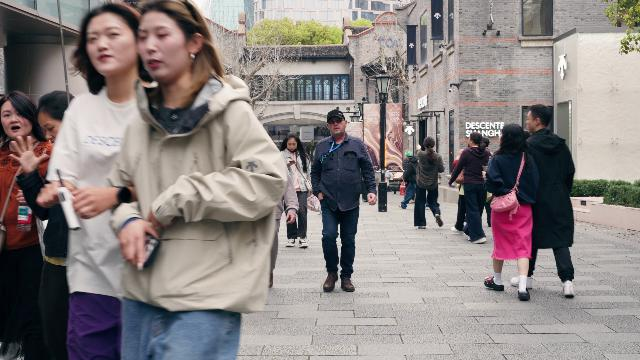person: (102, 0, 289, 360), (36, 3, 151, 360), (5, 89, 76, 360), (0, 91, 54, 360), (511, 104, 576, 298), (310, 110, 378, 292), (482, 124, 540, 301), (447, 132, 491, 244), (280, 132, 314, 248), (414, 137, 445, 229), (450, 151, 466, 235), (481, 138, 495, 227)
